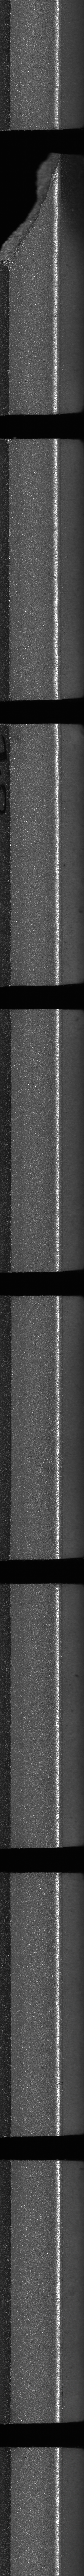Chip: (0, 148, 66, 278)
